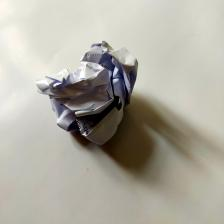Paper: (32, 41, 140, 161)
